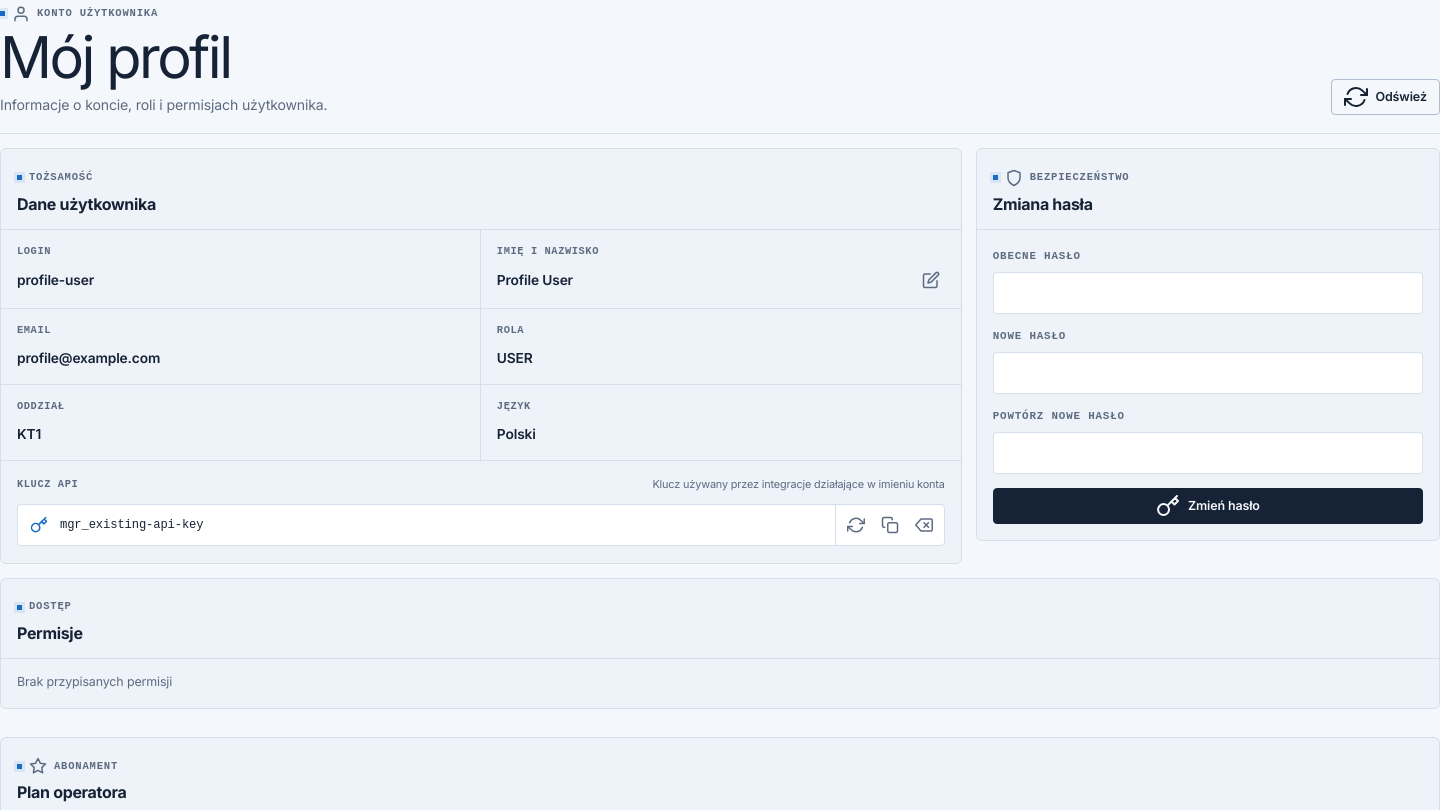
it: changes the current user's first and last name
The image size is (1440, 810).
Expected: the text "Profile User" is shown, [497, 270, 573, 291]
Click the button named "Edytuj imię i nazwisko".
click(931, 280)  # box [917, 266, 945, 294]
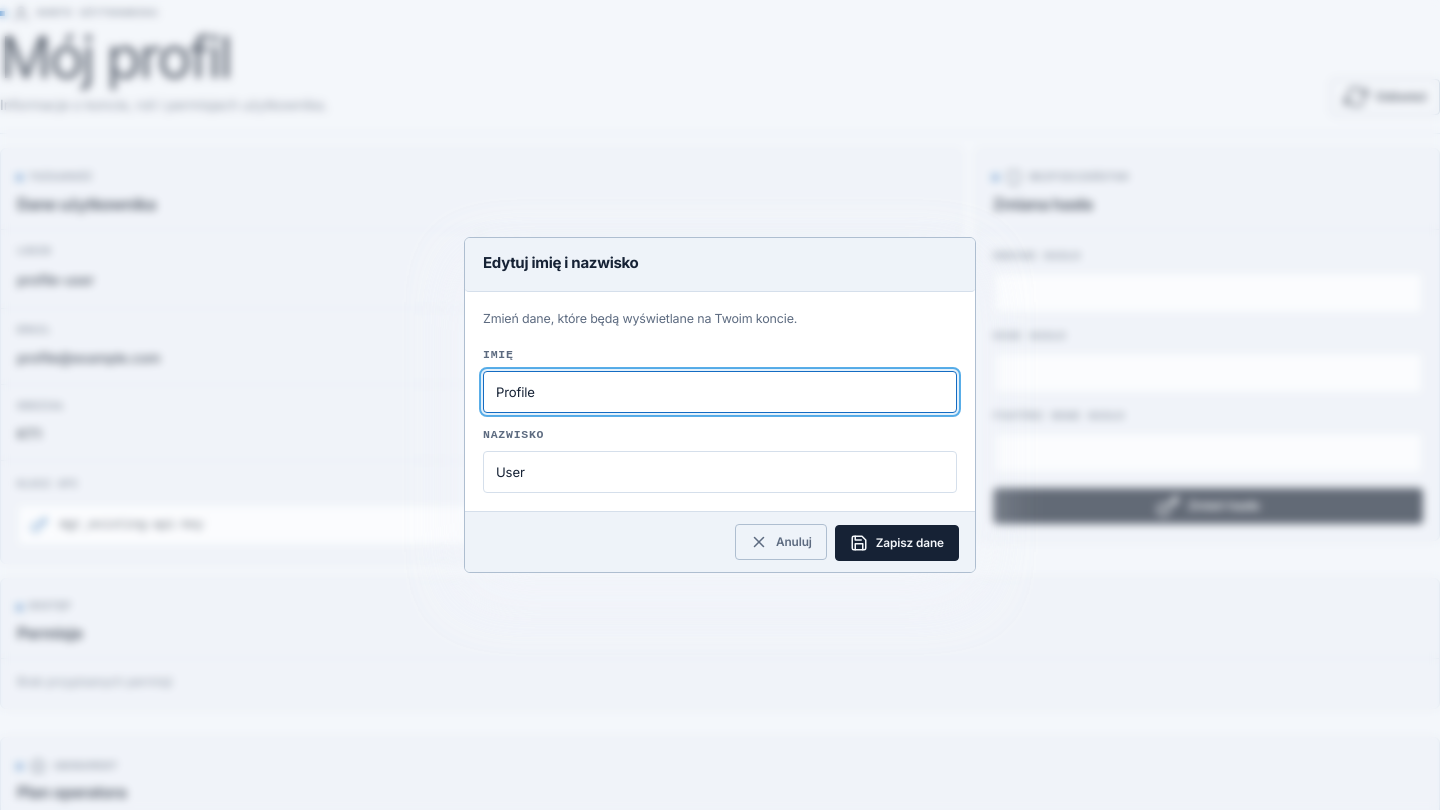
Now the dialog is shown, box [464, 237, 976, 573]
Replace the text in the field labelled "Imię" with "Jan" at (720, 392), box [483, 371, 957, 413]
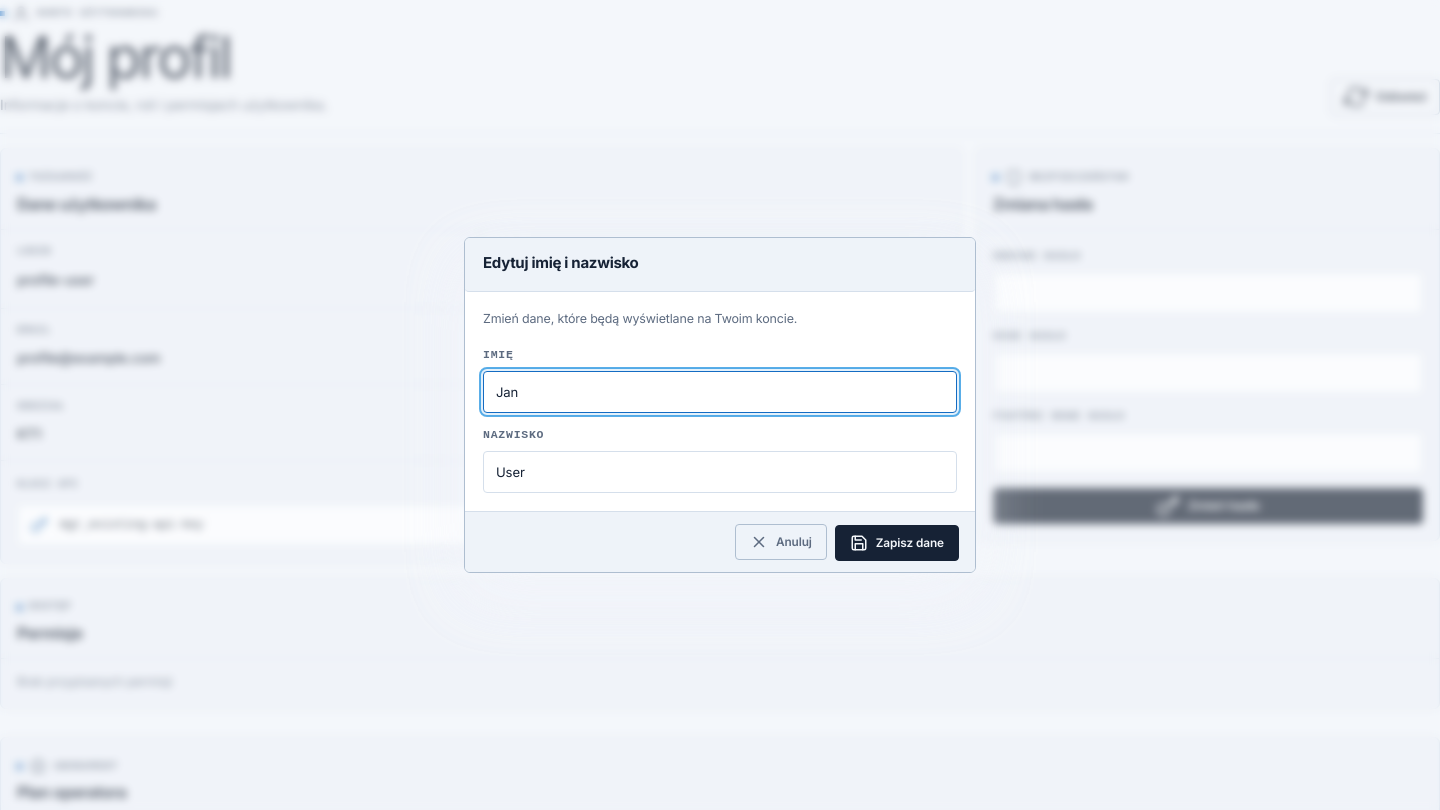
Replace the text in the field labelled "Nazwisko" with "Kowalski" at (720, 472), box [483, 451, 957, 493]
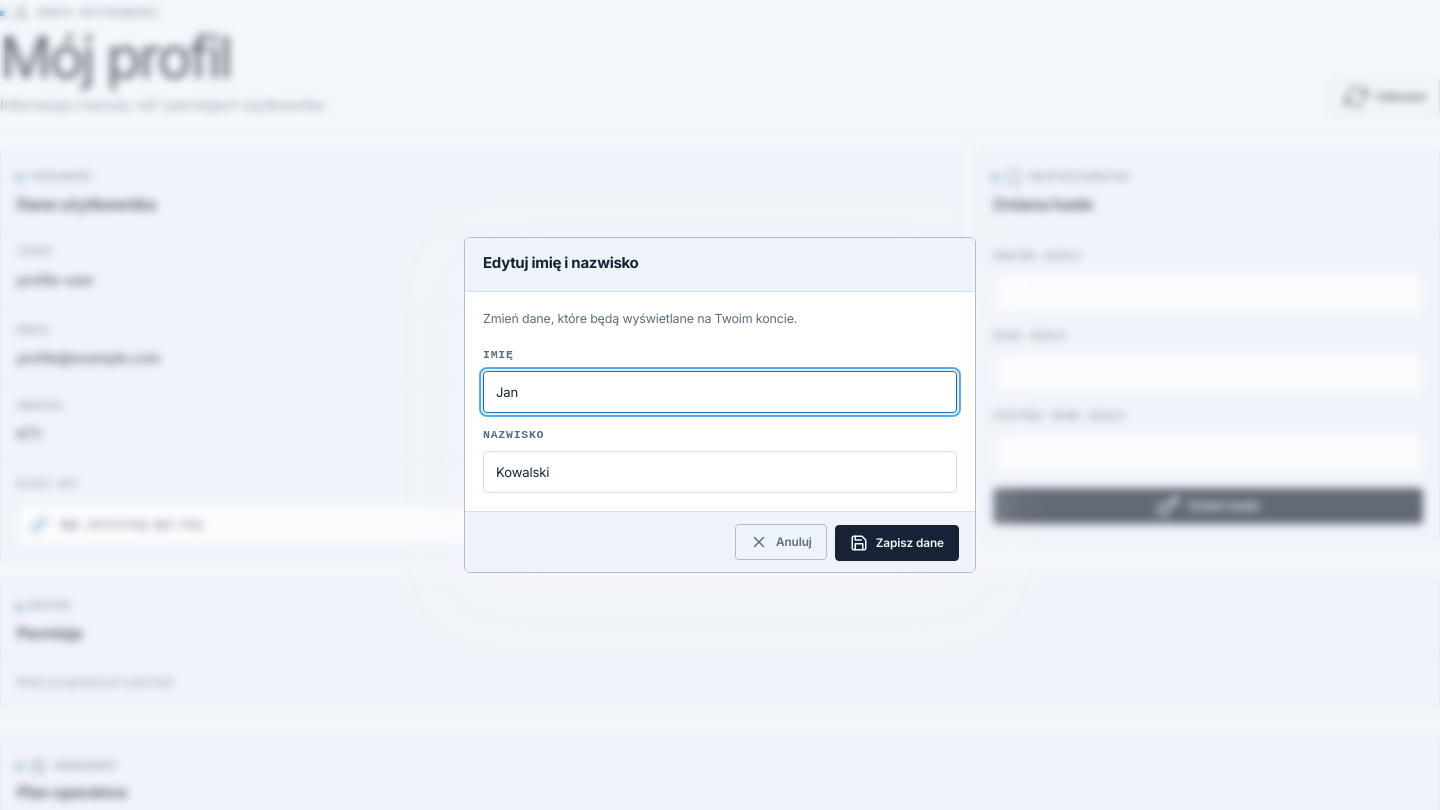
Click the button "Zapisz dane".
click(897, 543)  # box [835, 525, 959, 561]
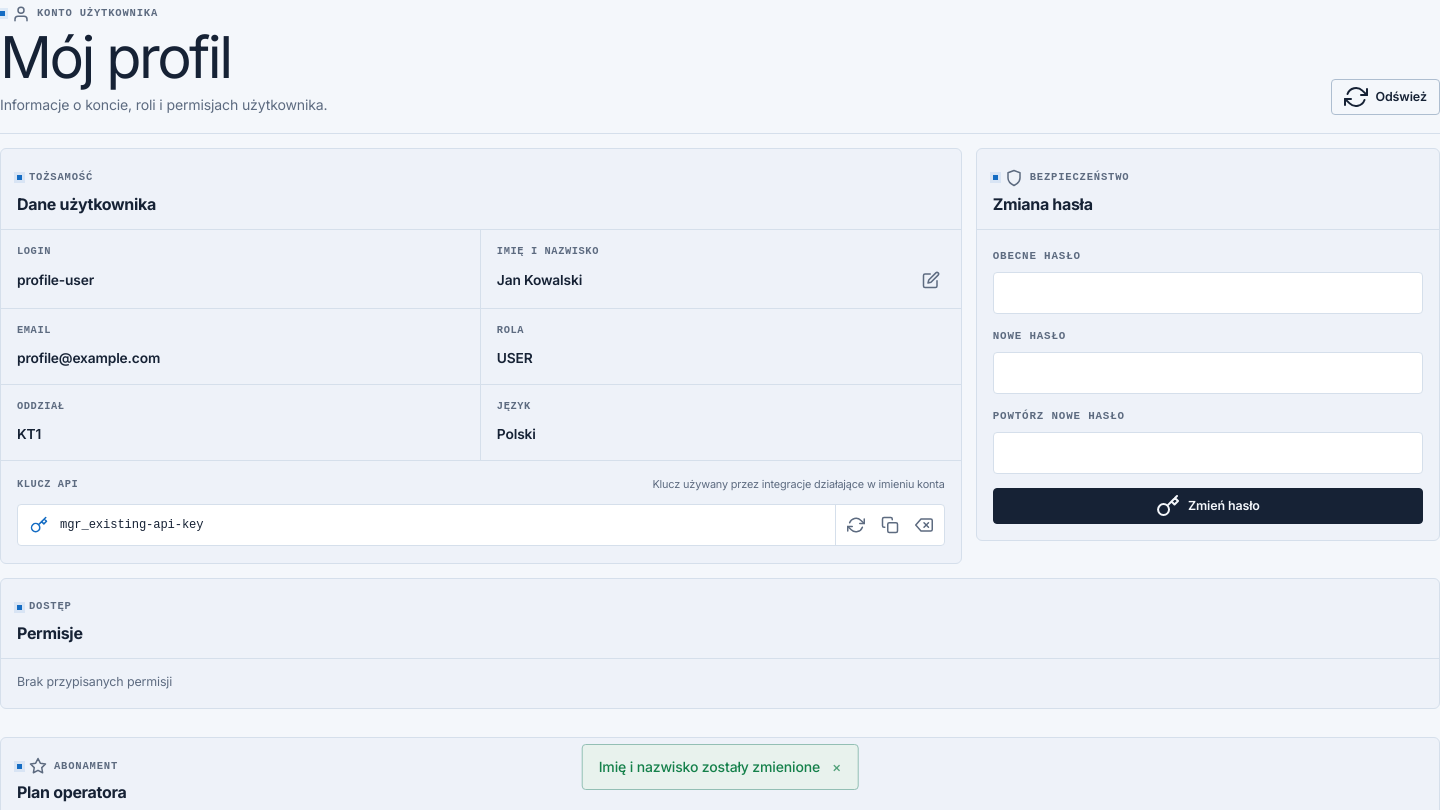
Now the text "Jan Kowalski" is shown, box [497, 270, 582, 291]
Now the dialog is gone
